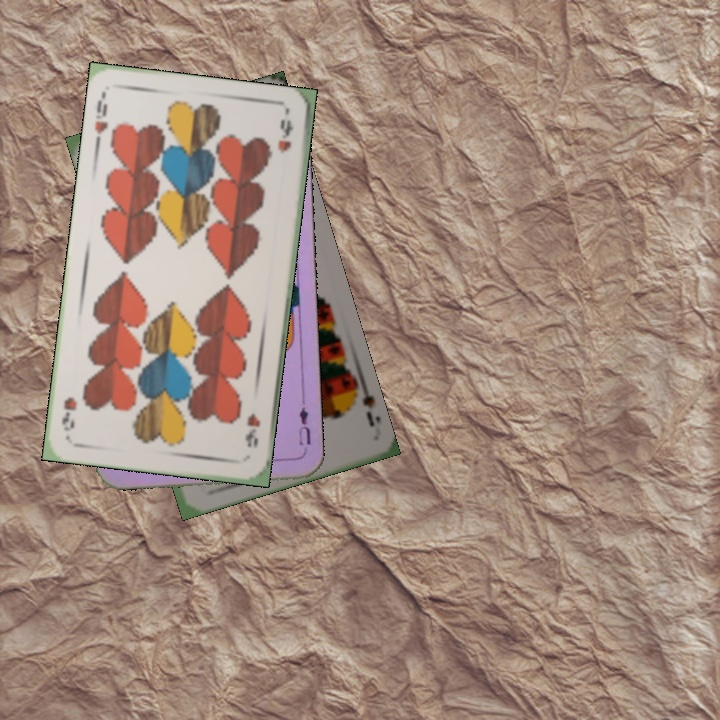EU: (294, 396, 314, 456)
H9: (90, 96, 111, 148), (241, 409, 263, 450)
S9: (344, 375, 377, 430)
